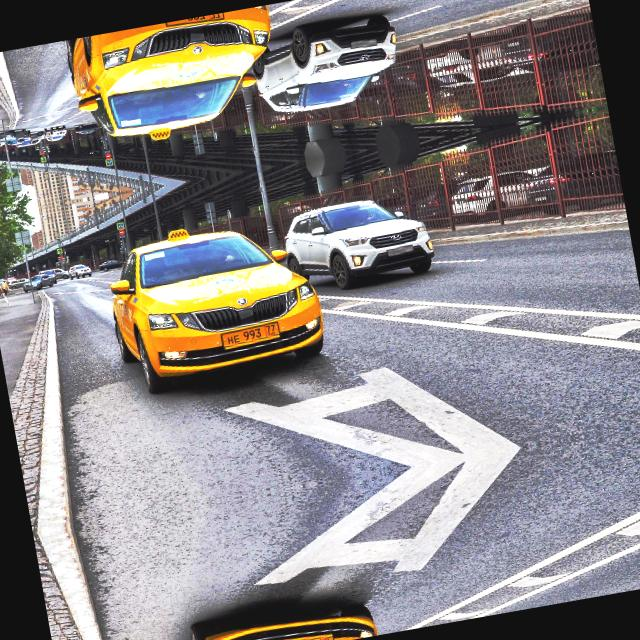taxi: (216, 320, 284, 354), (161, 12, 227, 30), (269, 626, 337, 640)
